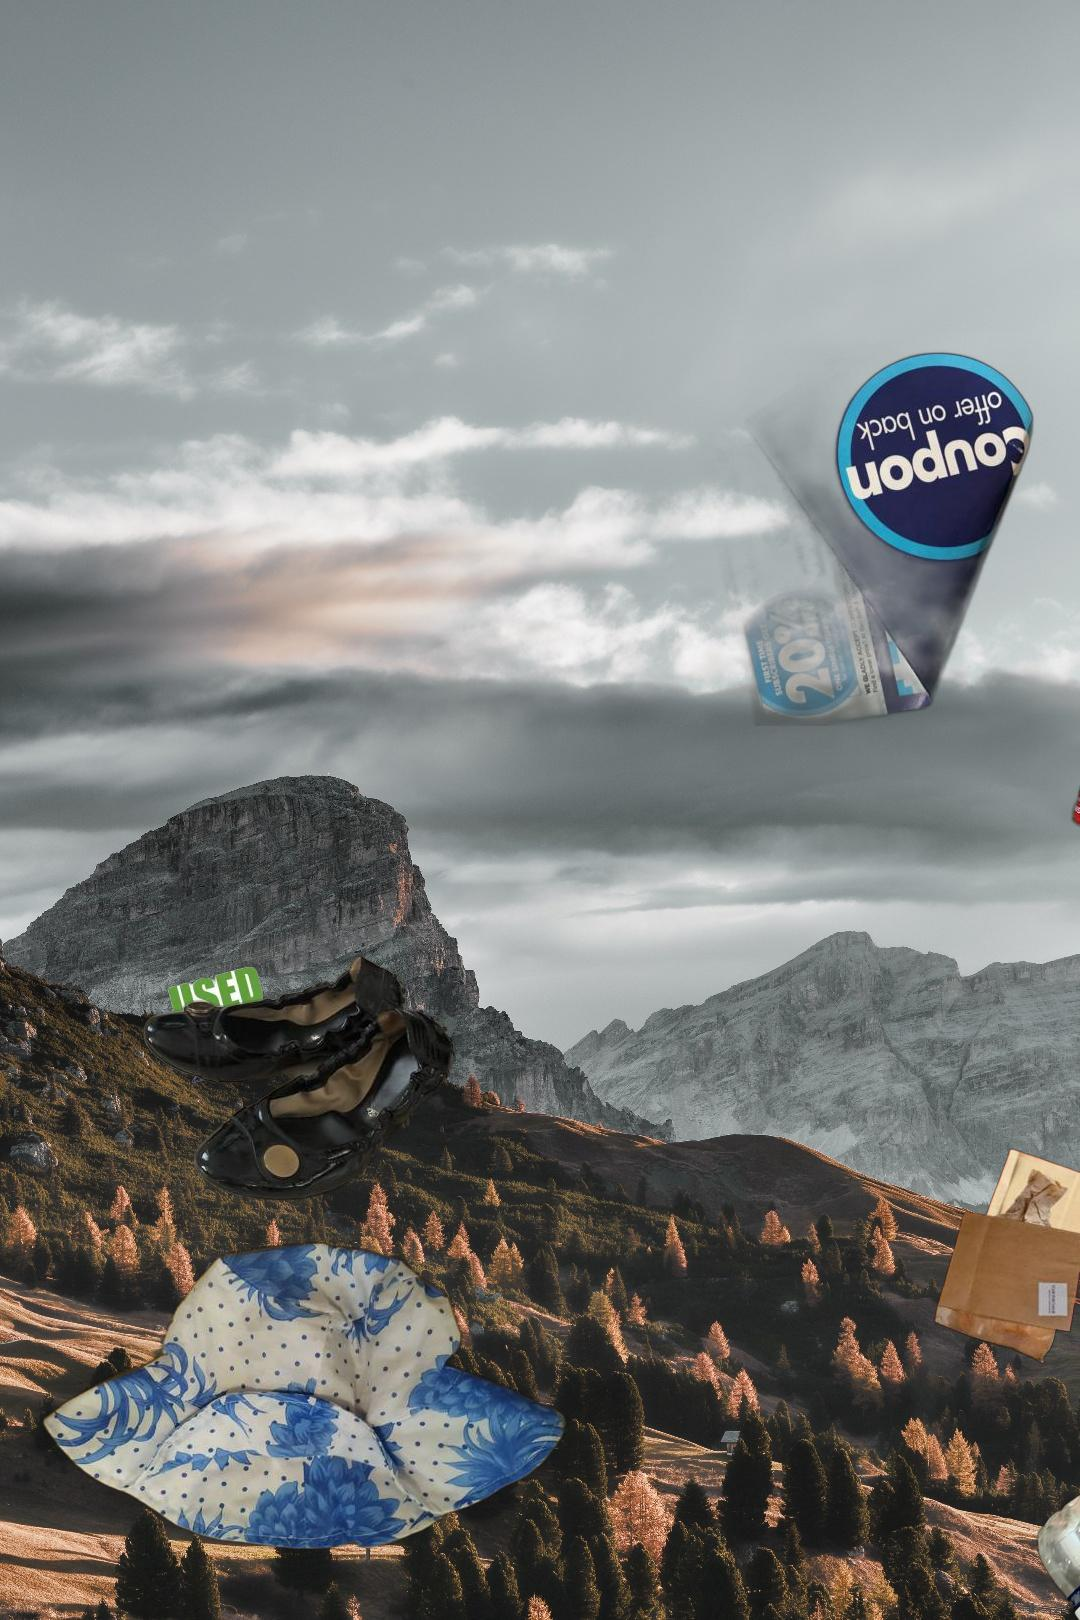clothes: (36, 1239, 572, 1552)
metal-cans: (1068, 685, 1080, 840)
paper: (617, 342, 1038, 726)
paper-bag: (932, 1146, 1080, 1365)
plastic-bottles: (1033, 1474, 1080, 1620)
shoes: (140, 951, 459, 1205)
trashbox-cardboard: (164, 964, 281, 1086)
